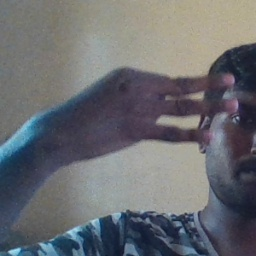K: (72, 65, 242, 149)
